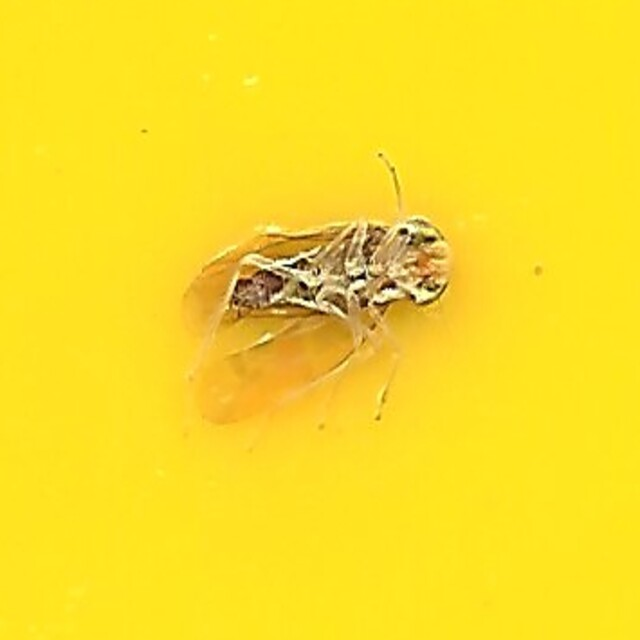Hemiptera: (180, 213, 460, 427)
